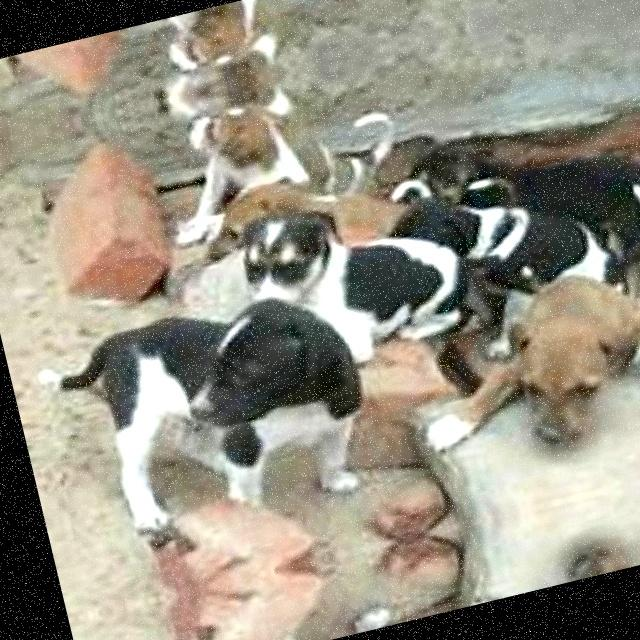dog: (73, 273, 390, 530), (432, 240, 640, 470), (232, 178, 423, 340), (497, 513, 640, 598), (154, 613, 425, 640)
